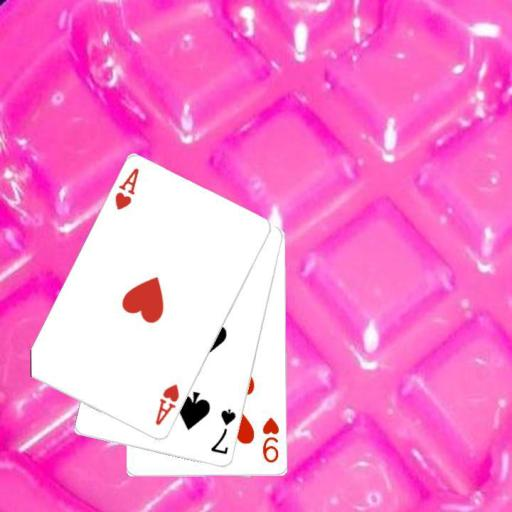7S: (208, 406, 238, 457)
9H: (259, 415, 281, 465)
AH: (112, 165, 141, 212), (153, 382, 182, 428)
